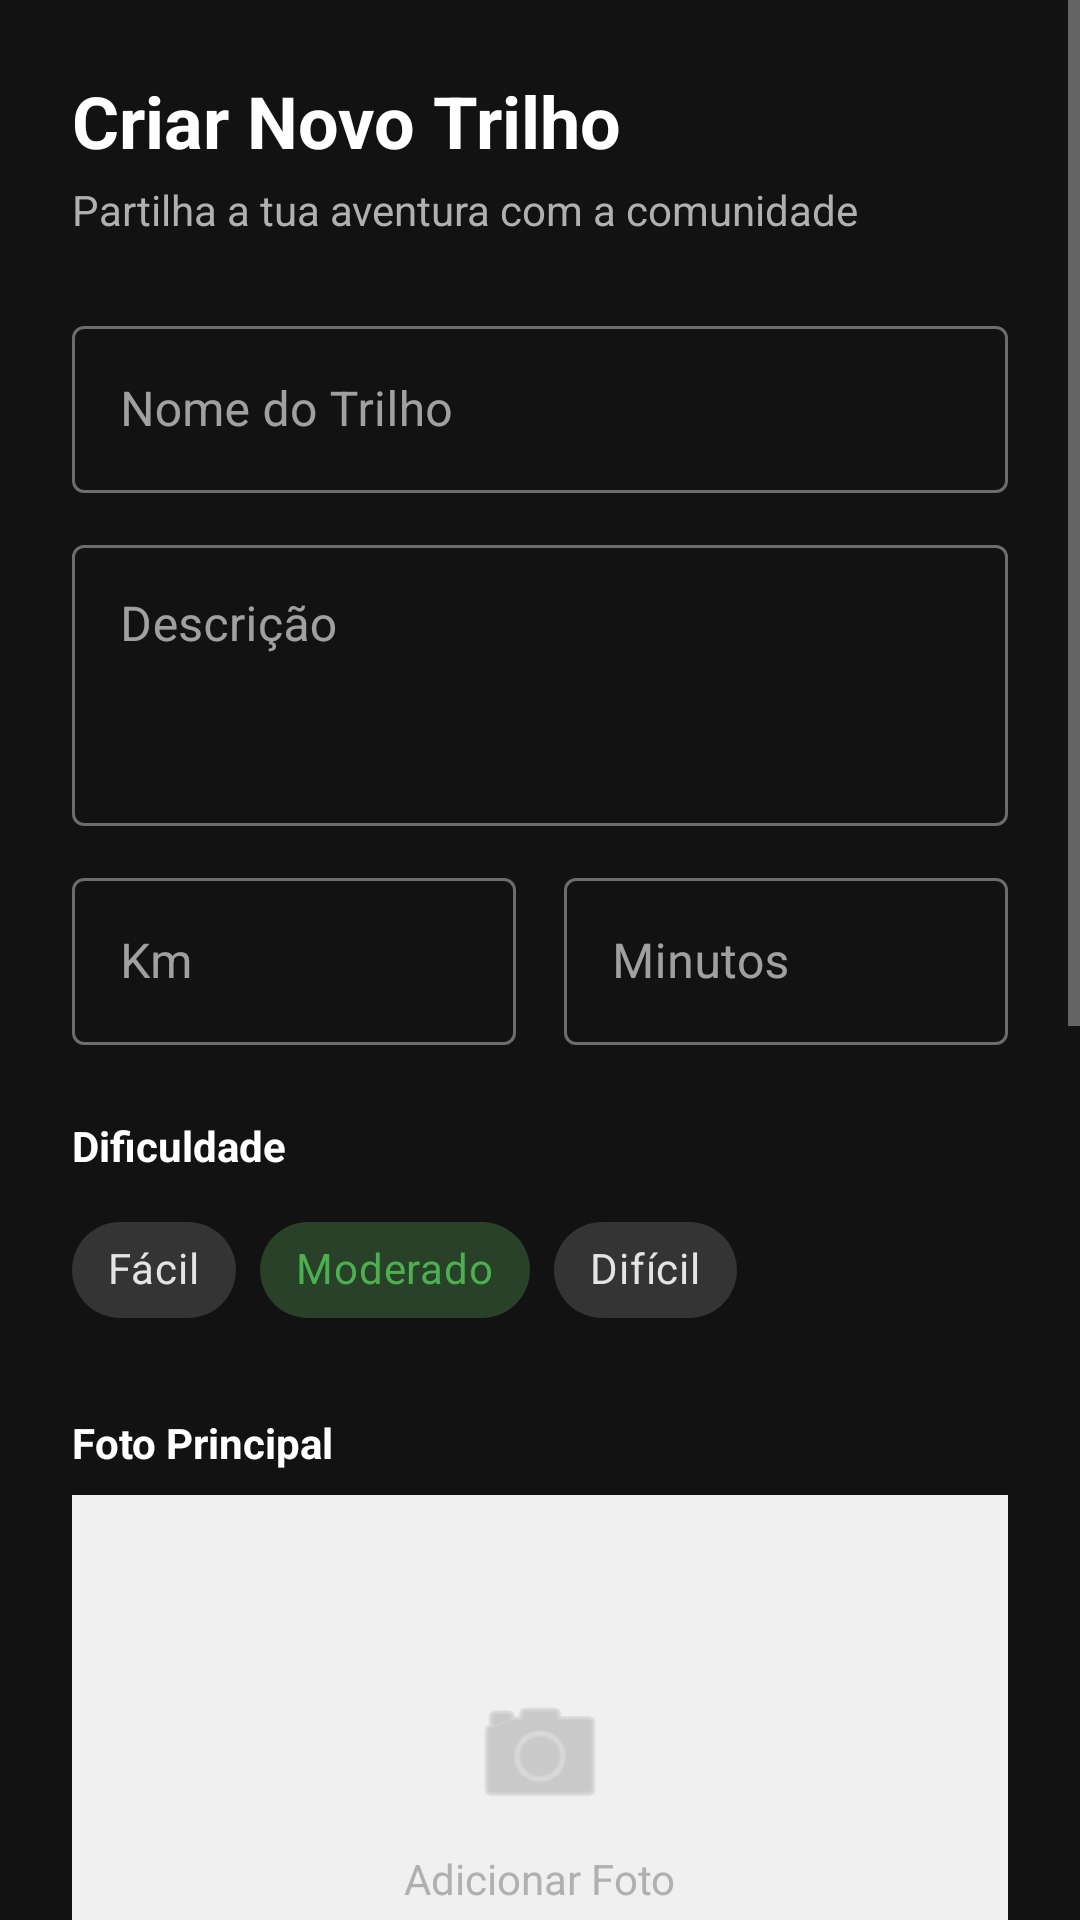

Icon bounding boxes for this 1080×1920 phone screenshot, format (x1, y1, x2, y2):
camera: (486, 1710, 593, 1794)
